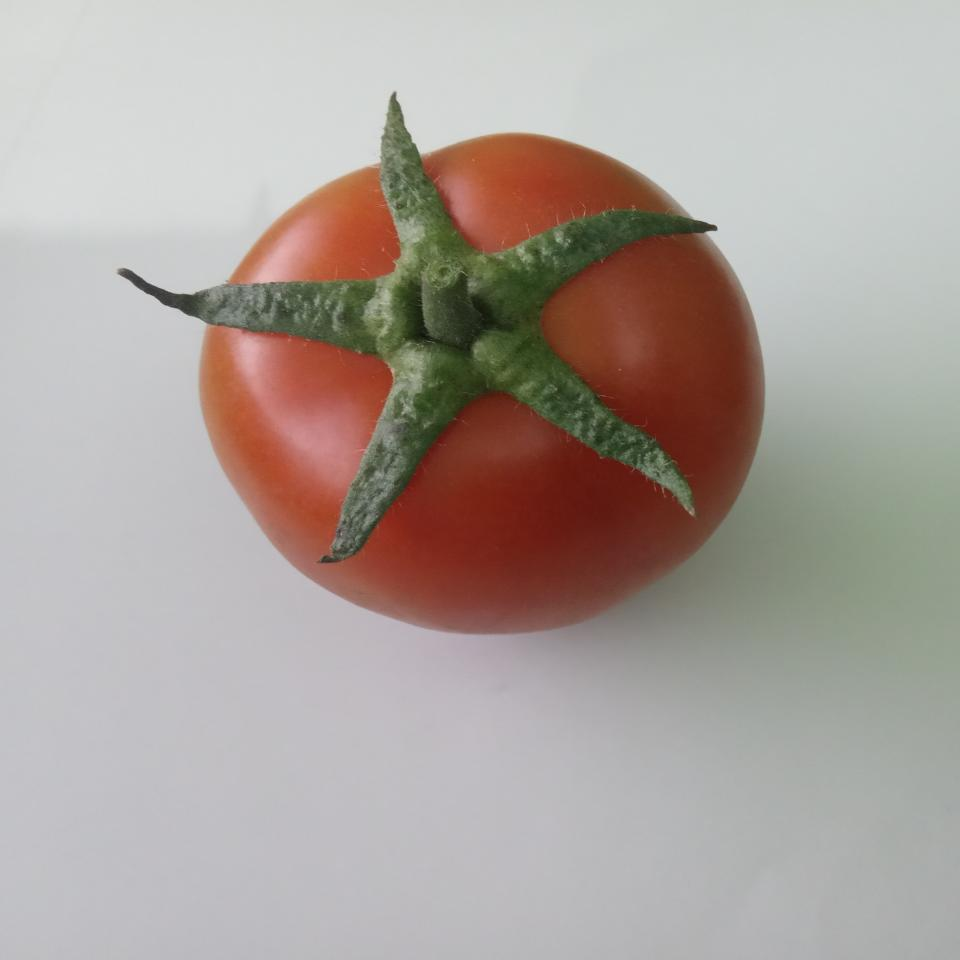Healthy: (119, 91, 774, 640)
